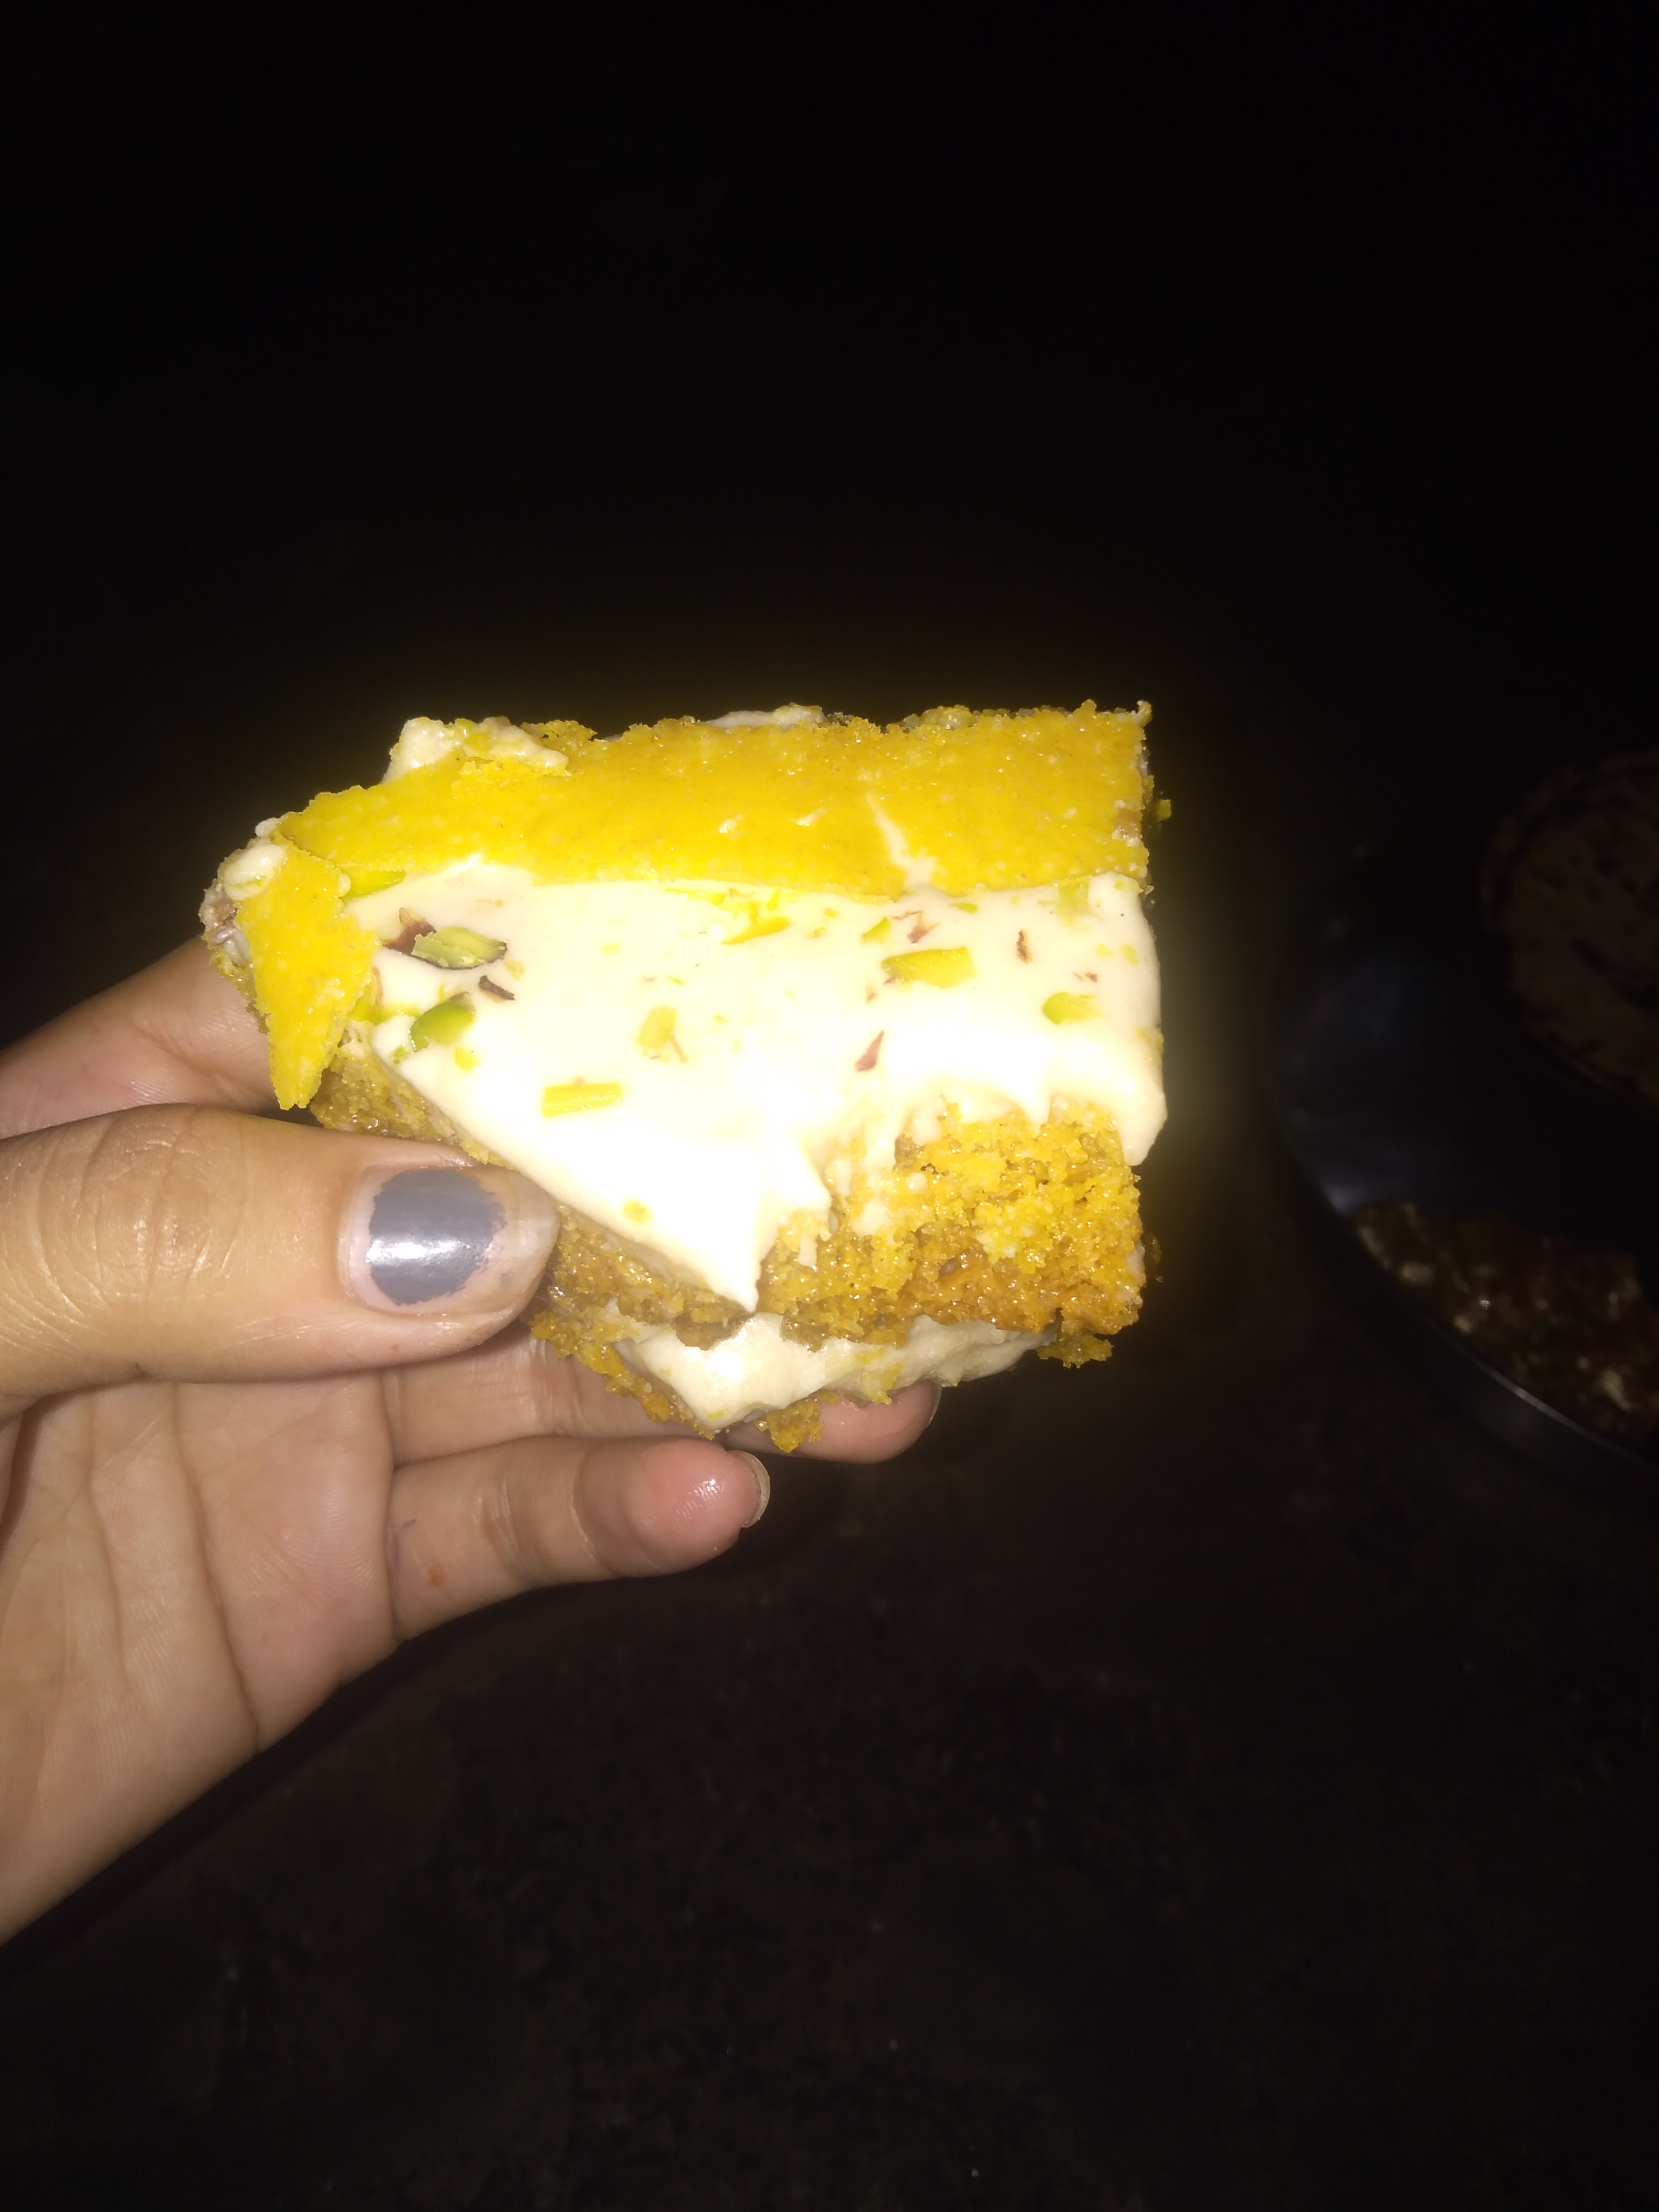food: (192, 690, 1184, 1469), (1339, 731, 1658, 1454)
